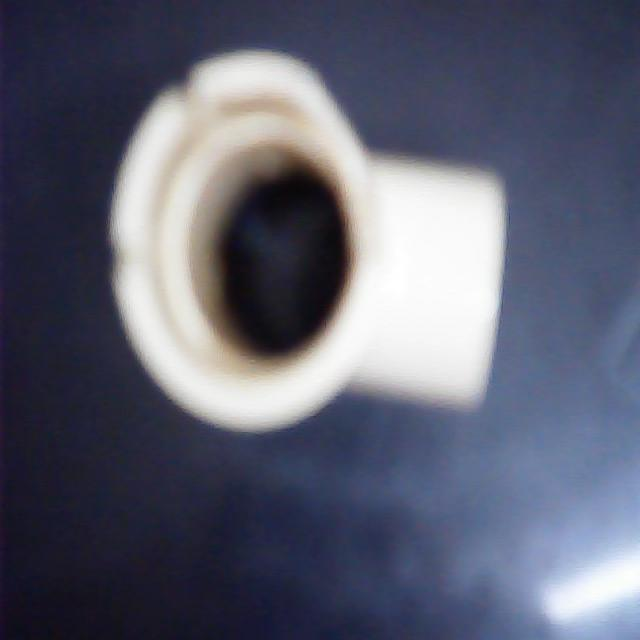Defective: (75, 208, 160, 306), (143, 74, 246, 134)
